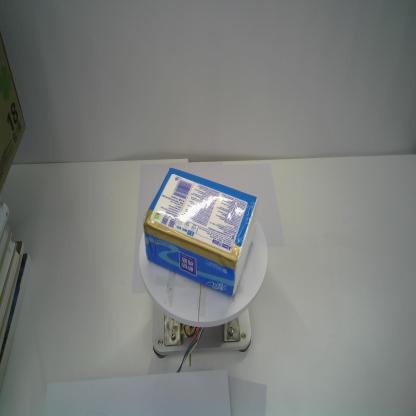Tissue: (141, 166, 258, 299)
